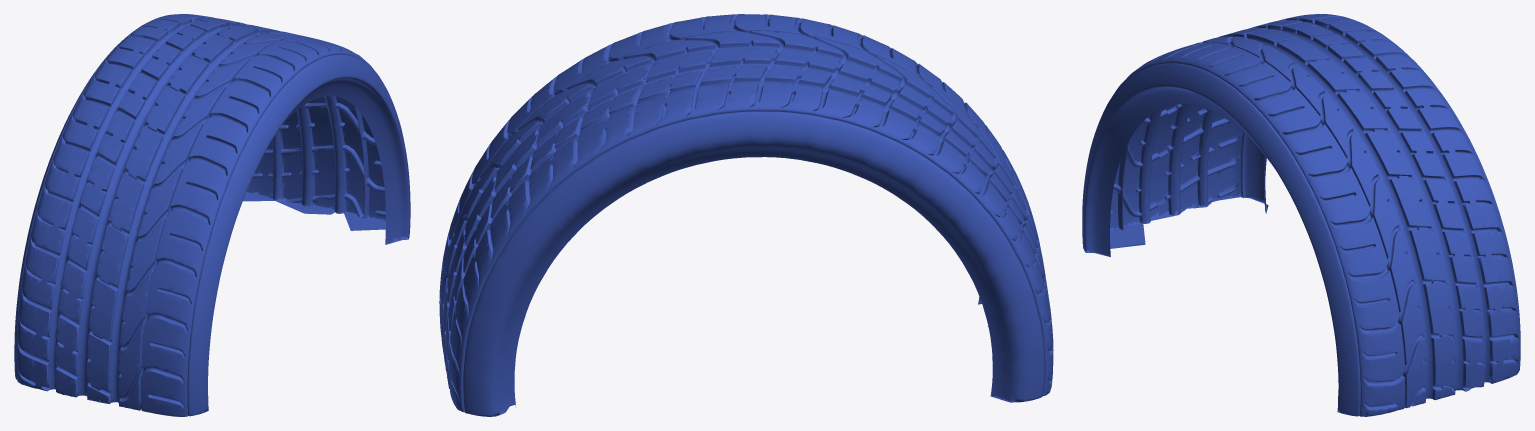
Rendered from ruota_LOD.fbx.
3 renders of one model, left to right at view 1: azimuth 30°, elevation 25°; view 2: azimuth 150°, elevation 25°; view 3: azimuth 270°, elevation 25°, orthographic. The views are drawn at different scales.
Visible parts, largest first — view 1: PM3D_Tire11; view 2: PM3D_Tire11; view 3: PM3D_Tire11.
Boxes of the visible parts, x1,y1,x2,y2 form: PM3D_Tire11: (14,14,410,416); PM3D_Tire11: (439,14,1053,416); PM3D_Tire11: (1082,14,1520,416).
Bounding box in the file's own units: 1344 × 735 × 1127.
